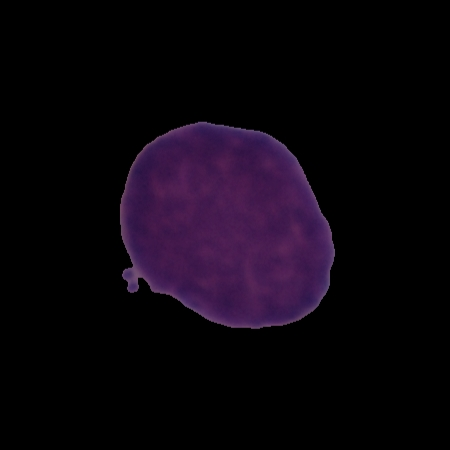HEM: (115, 117, 338, 331)
